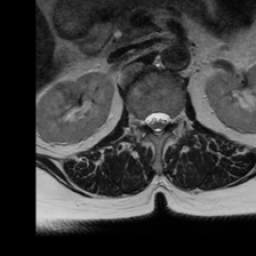CCS_normal: (153, 104, 161, 140)
LFS_stenosis: (170, 106, 178, 131)
LLS_normal: (161, 104, 170, 132)
RFS_normal: (137, 108, 145, 133)
RLS_normal: (145, 107, 153, 131)
